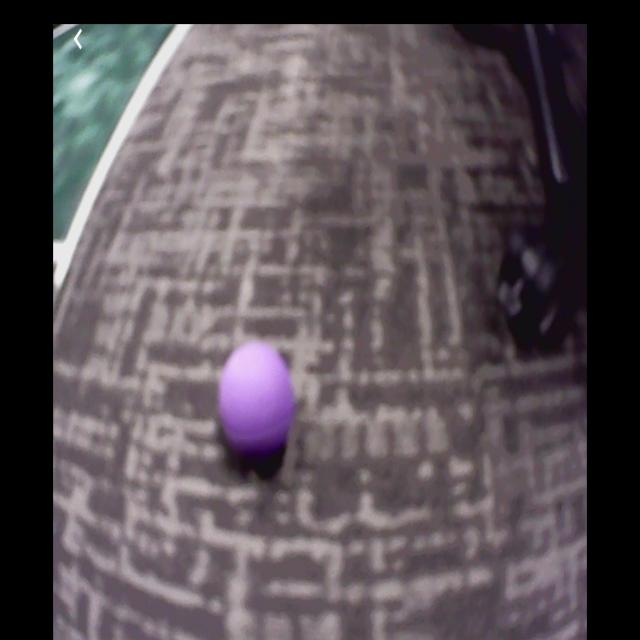ball: (220, 346, 295, 457)
